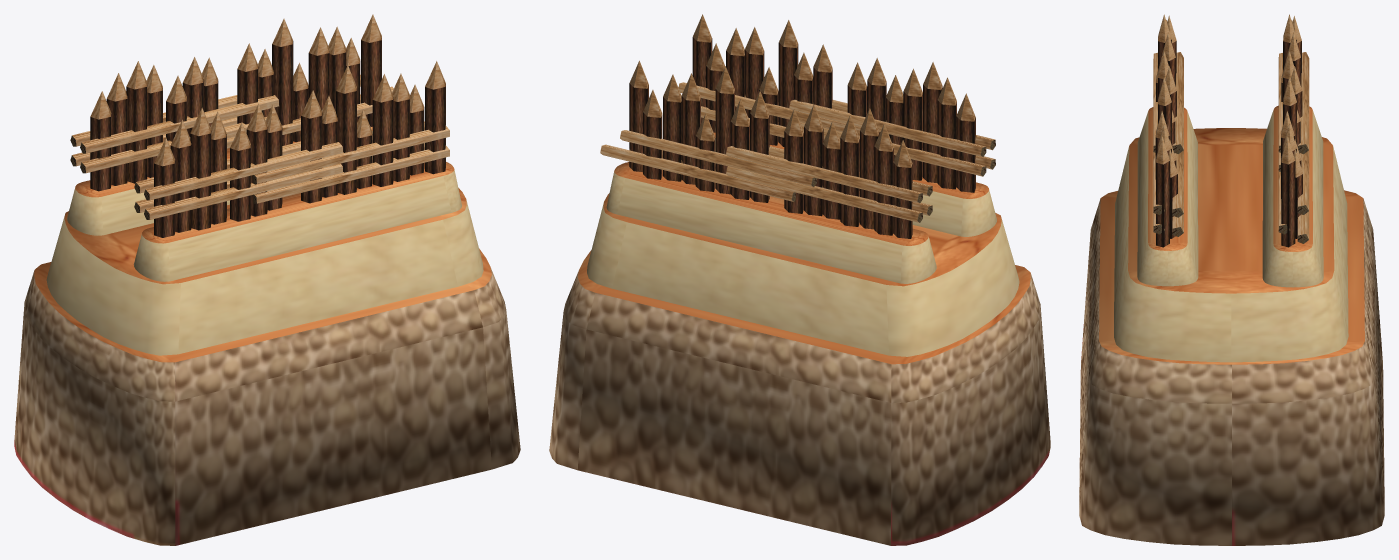
The model's file is wall_short.dae.
3 renders of one model, left to right at view 1: azimuth 30°, elevation 25°; view 2: azimuth 150°, elevation 25°; view 3: azimuth 270°, elevation 25°, orthographic.
Visible parts, largest first — view 1: wall_short; view 2: wall_short; view 3: wall_short.
Part boxes in pixels (x1=…): wall_short: x1=14, y1=14, x2=520, y2=545; wall_short: x1=549, y1=14, x2=1050, y2=545; wall_short: x1=1079, y1=14, x2=1384, y2=545.
Bounding box in the file's own units: 18.2 × 11.66 × 16.41.
Materials: 1 (1 with a texture image).
